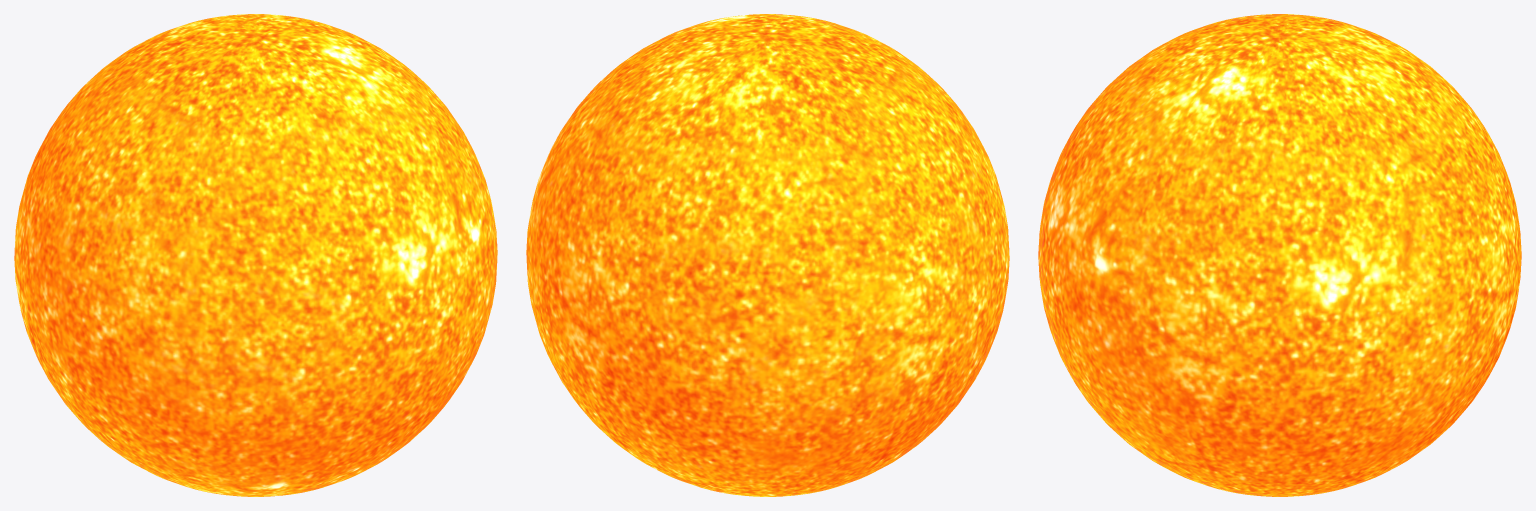
Rendered from theSun.glb.
3 views of the same model, side by side, from view 1: azimuth 30°, elevation 25°; view 2: azimuth 150°, elevation 25°; view 3: azimuth 270°, elevation 25° (orthographic).
Parts seen in each view (by area): view 1: UnstableStarref_2_0; view 2: UnstableStarref_2_0; view 3: UnstableStarref_2_0.
Part boxes in pixels (x1,y1,x2,y2): UnstableStarref_2_0: [14, 14, 497, 496]; UnstableStarref_2_0: [526, 14, 1009, 496]; UnstableStarref_2_0: [1038, 14, 1521, 496].
Bounding box in the file's own units: 20.2 × 20.2 × 20.2.
2 materials, 2 textured.
